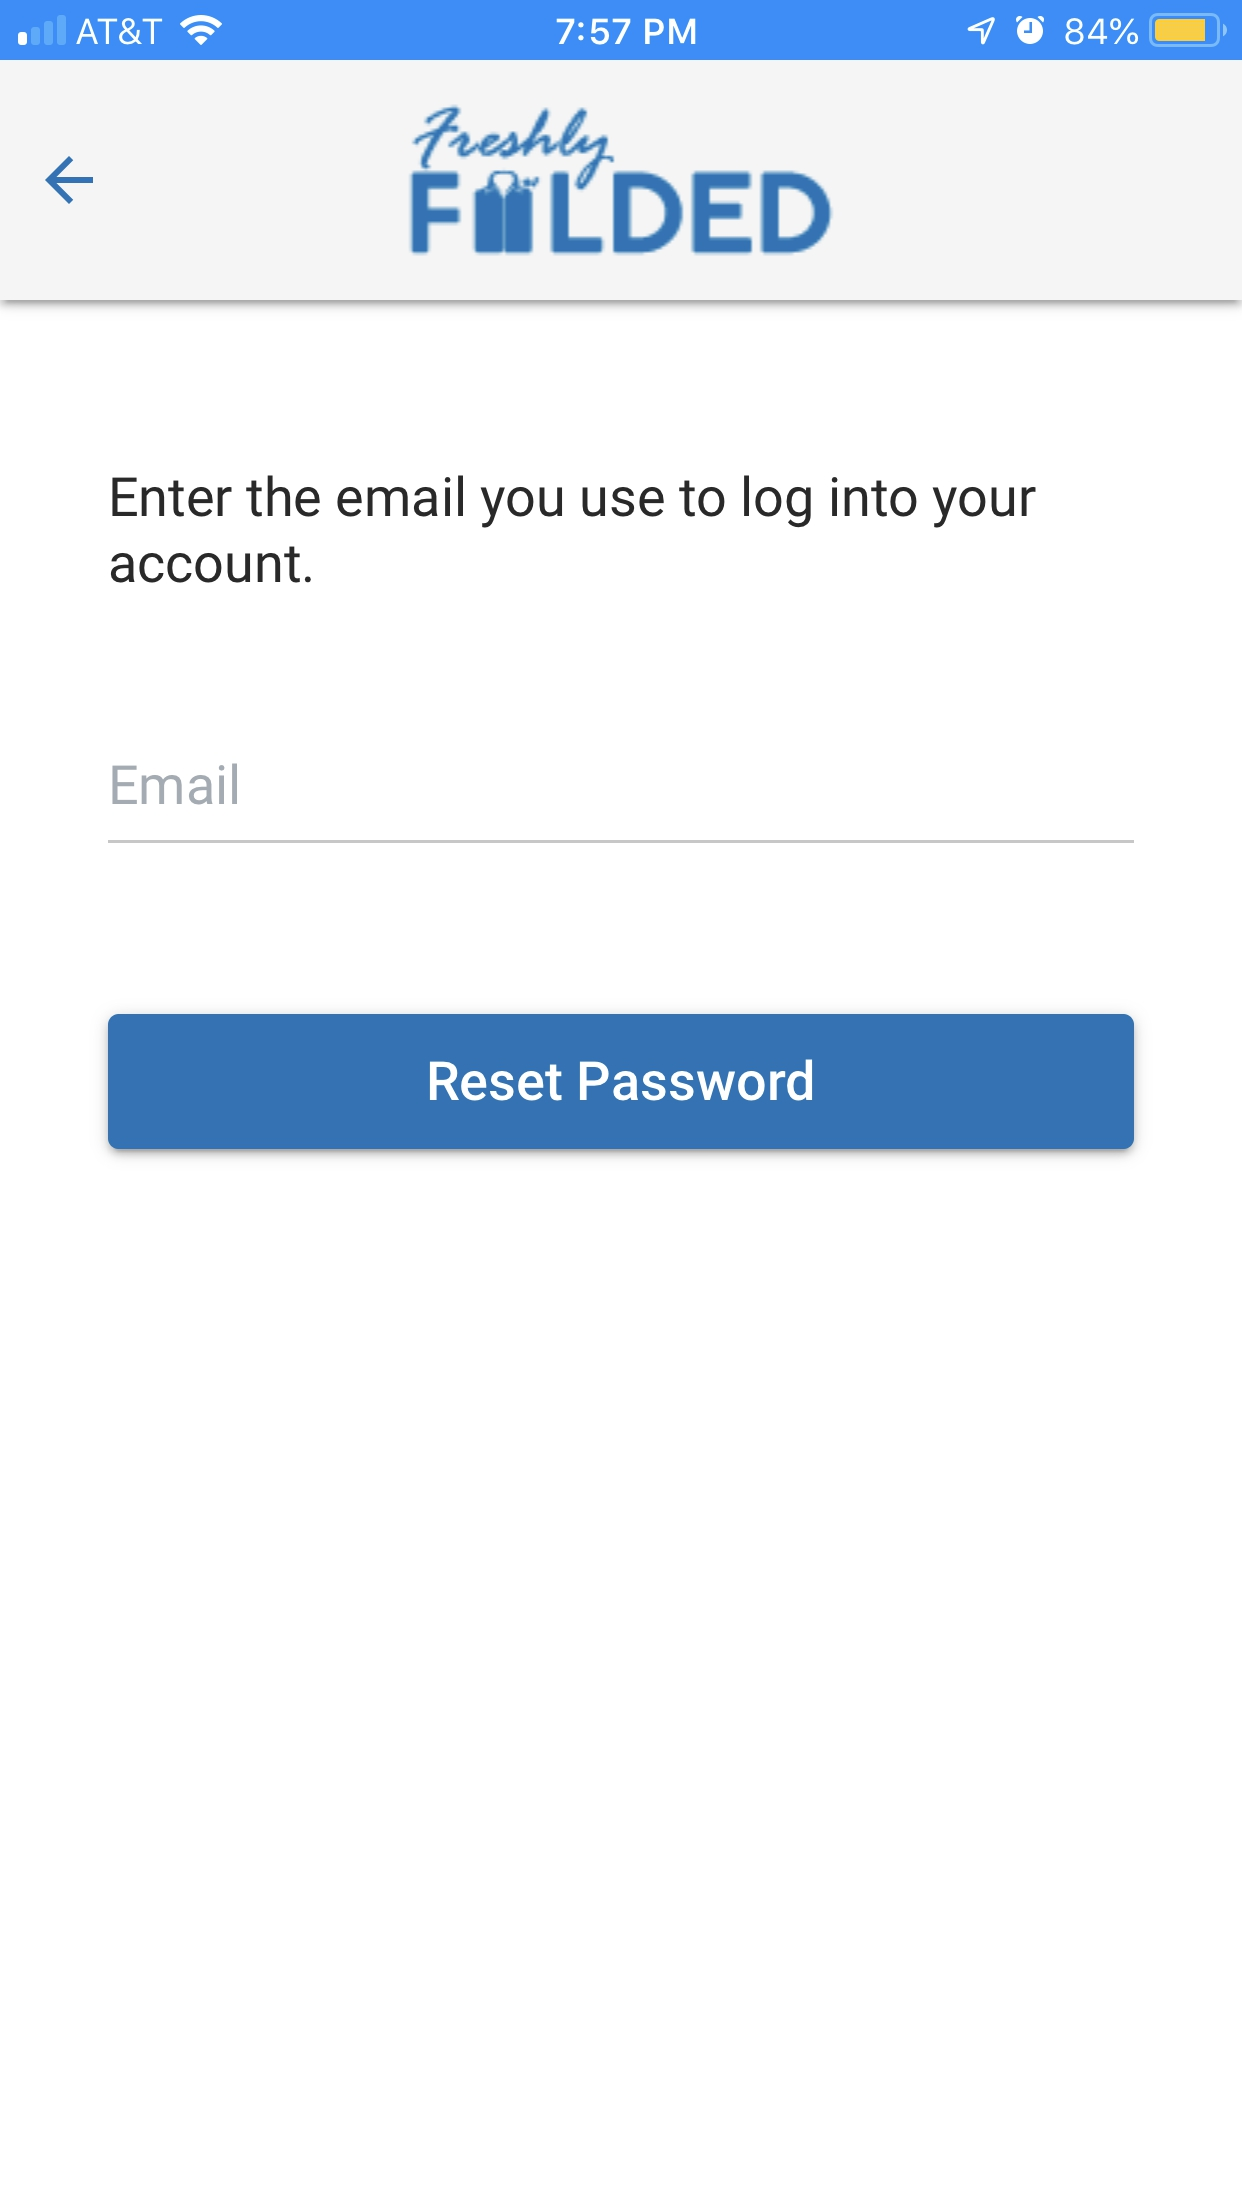EditText: (108, 763, 1134, 845)
Icon: (45, 158, 96, 206)
Image: (409, 106, 833, 256)
Text: (111, 475, 1037, 584), (112, 763, 240, 805)
TextButton: (109, 1015, 1134, 1149)
UpperTaskBar: (2, 2, 1242, 61)
